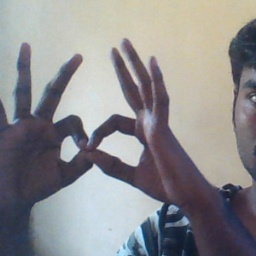B: (35, 94, 153, 193)
